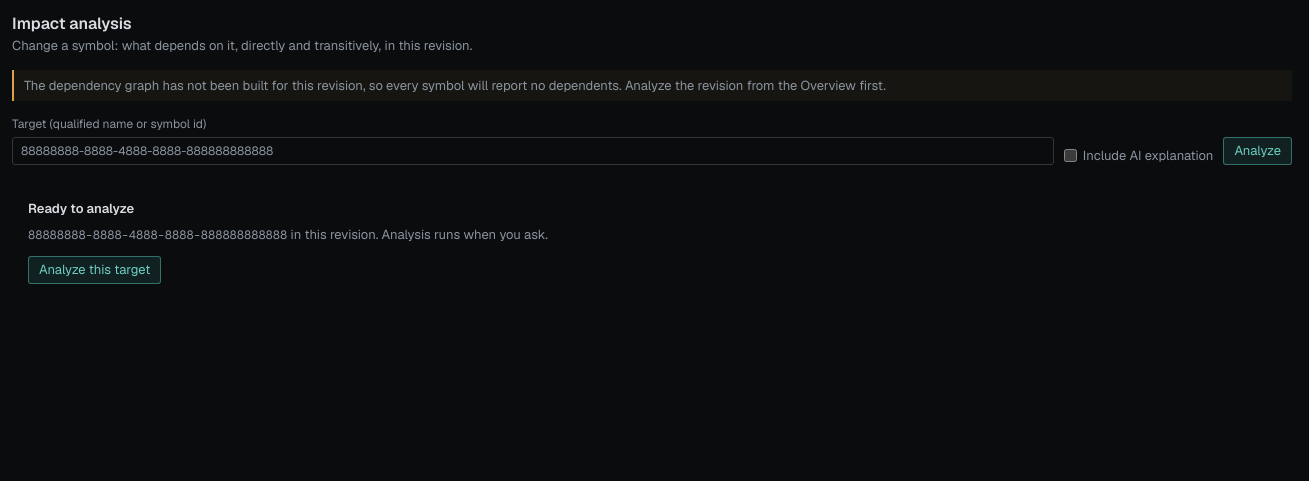
impact from a link › pre-fills a revision-scoped target and only analyzes on request
Click the button "Analyze this target" at (95, 270), box [28,256,161,284]
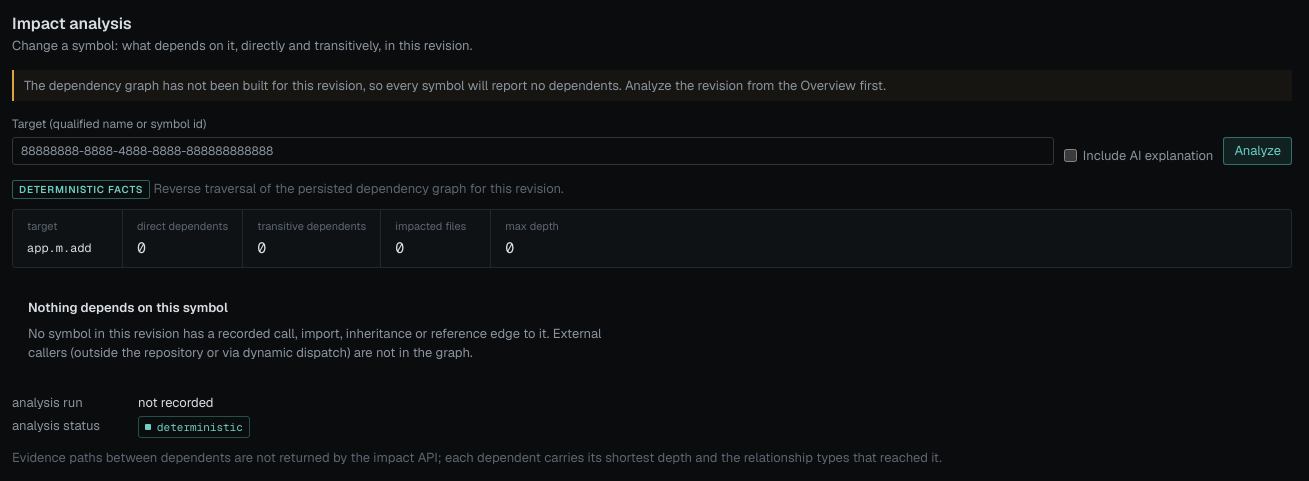
Now the text "Nothing depends on this symbol" is shown, box [28,299,228,316]
